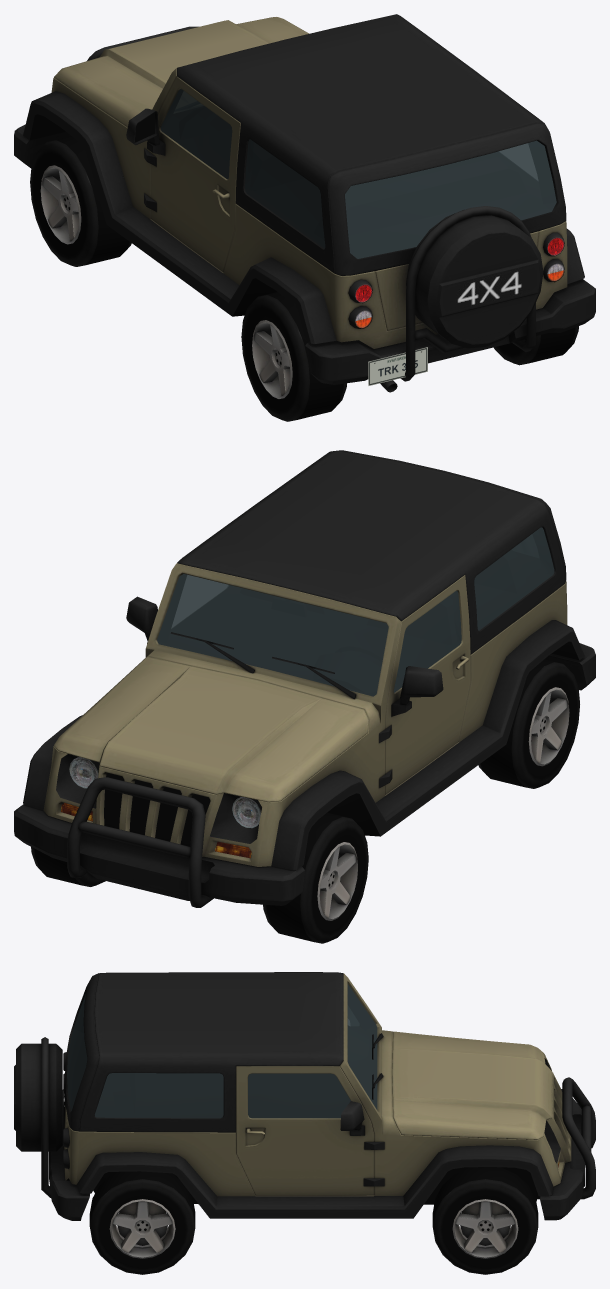
The model's file is offroad.glb.
The picture shows the model from 3 angles, top to bottom: view 1: azimuth 30°, elevation 25°; view 2: azimuth 150°, elevation 25°; view 3: azimuth 270°, elevation 25°; orthographic projection. The views are drawn at different scales.
Visible parts, largest first — view 1: body, wheel_fl, wheel_rl, wheel_rr, Registration; view 2: body, wheel_fl, wheel_rl, wheel_fr; view 3: body, wheel_fr, wheel_rr.
Boxes of the visible parts, x1,y1,x2,y2 form: body: (14,14,595,392); wheel_fl: (30,136,131,266); wheel_rl: (241,292,346,421); wheel_rr: (493,326,578,365); Registration: (368,347,427,385); body: (14,450,595,907); wheel_fl: (263,812,368,943); wheel_rl: (478,659,579,788); wheel_fr: (31,847,105,886); body: (14,972,595,1220); wheel_fr: (432,1167,538,1274); wheel_rr: (89,1171,195,1274).
Size of the model in its own units: 2.08 by 1.66 by 4.18.
Materials: 6 (5 with a texture image).
